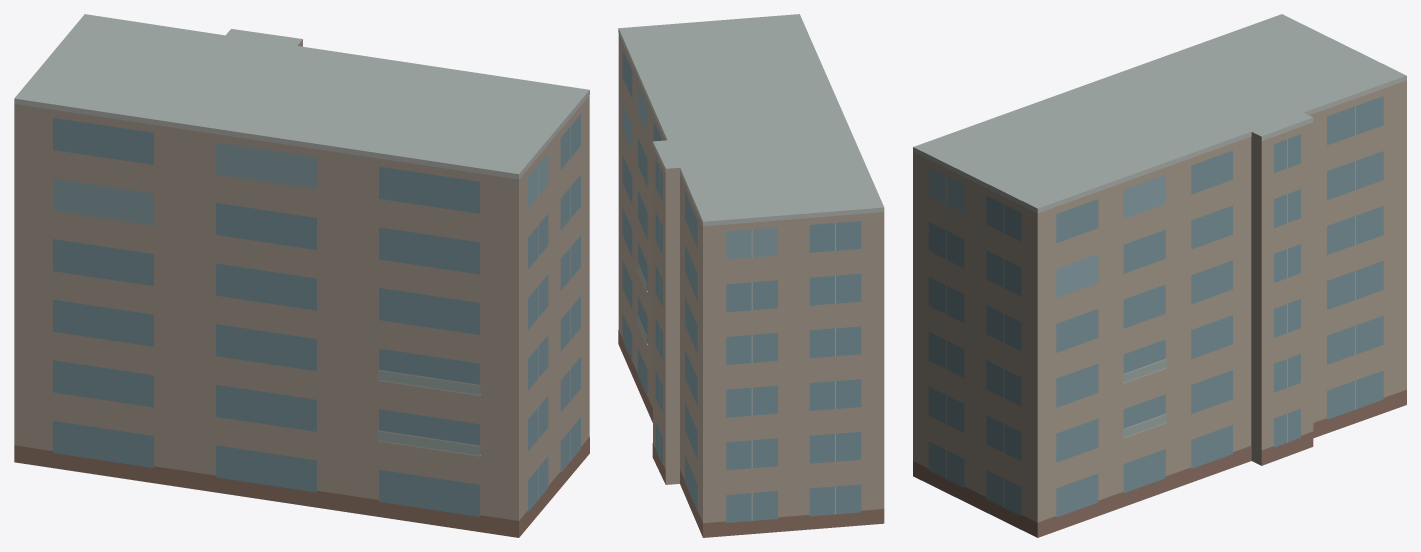
The model's file is survey-upis-32916519.glb.
3 renders of one model, left to right at view 1: azimuth 30°, elevation 25°; view 2: azimuth 150°, elevation 25°; view 3: azimuth 270°, elevation 25°, orthographic. The views are drawn at different scales.
Parts seen in each view (by area): view 1: survey-upis-32916519.tmp; view 2: survey-upis-32916519.tmp; view 3: survey-upis-32916519.tmp.
Part boxes in pixels (x1,y1,x2,y2): survey-upis-32916519.tmp: [14, 14, 589, 537]; survey-upis-32916519.tmp: [618, 14, 884, 537]; survey-upis-32916519.tmp: [913, 14, 1406, 537].
Size of the model in its own units: 21.31 by 16.8 by 22.84.
